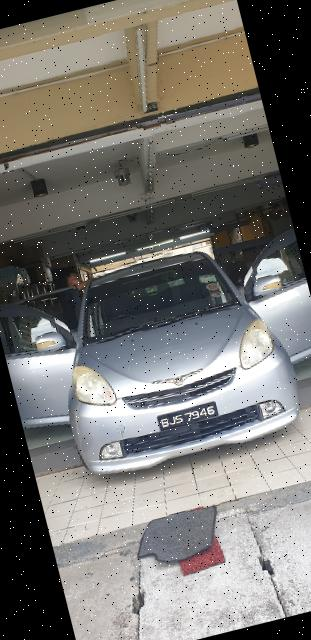License_Plate: (151, 400, 223, 439)
car: (1, 208, 311, 502)
